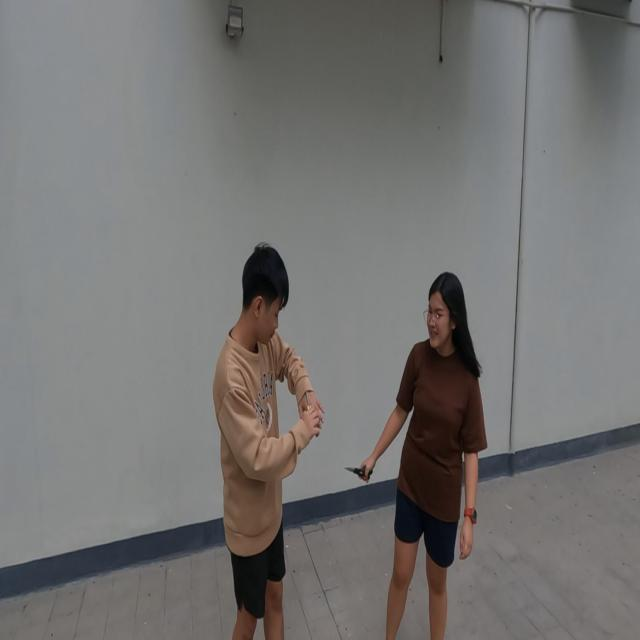scissor: (344, 460, 374, 481)
